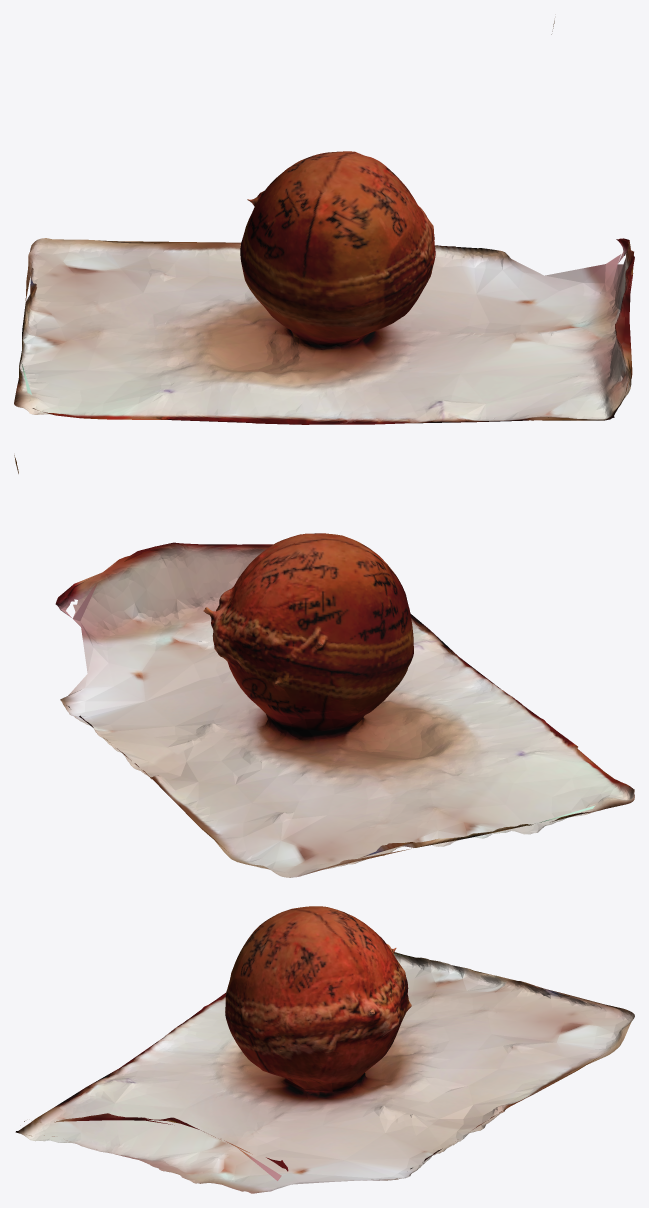
File: RedBall.glb
The picture shows the model from 3 angles, top to bottom: view 1: azimuth 30°, elevation 25°; view 2: azimuth 150°, elevation 25°; view 3: azimuth 270°, elevation 25°; orthographic projection. The views are drawn at different scales.
Visible parts, largest first — view 1: mesh; view 2: mesh; view 3: mesh.
Part boxes in pixels (x1=…): mesh: x1=14, y1=20, x2=634, y2=424; mesh: x1=14, y1=455, x2=634, y2=877; mesh: x1=15, y1=906, x2=634, y2=1193.
Size of the model in its own units: 0.2635 by 0.1035 by 0.2528.
1 material, 1 textured.
